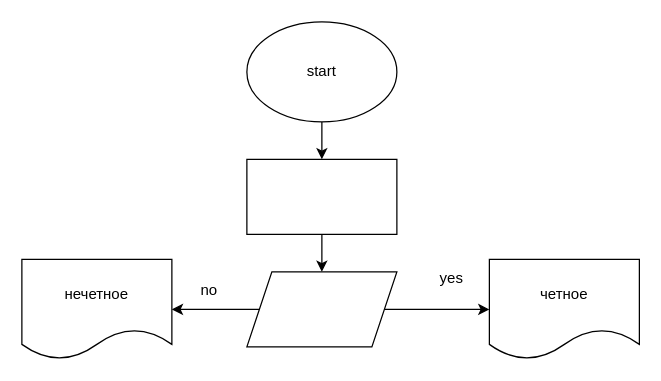
Some shapes in this 661 by 381 pixel diagram are drawn without their labels. The box of each missing label's shape, as (x1, y1, x2, y2) in pixels:
a % 2 == 0: (246, 271, 397, 347)
a = 4: (246, 158, 397, 234)
